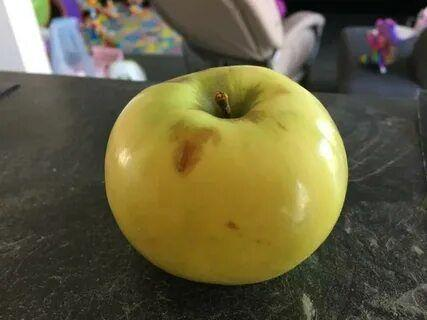Apple: (107, 66, 348, 284)
